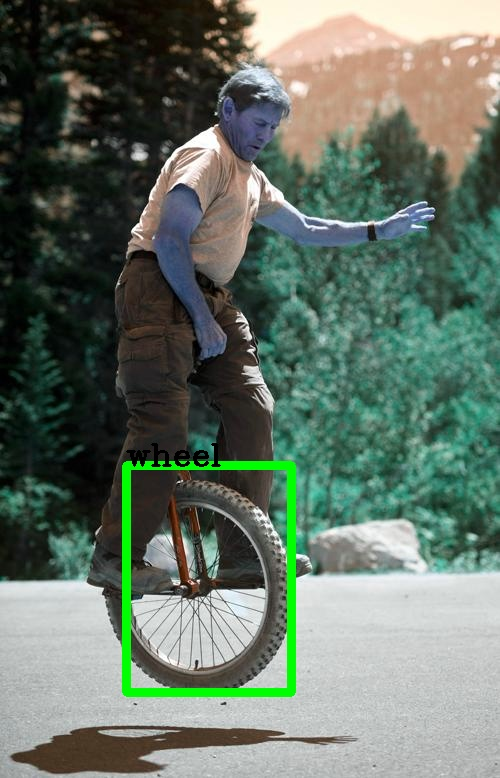wheel: (126, 465, 291, 692)
